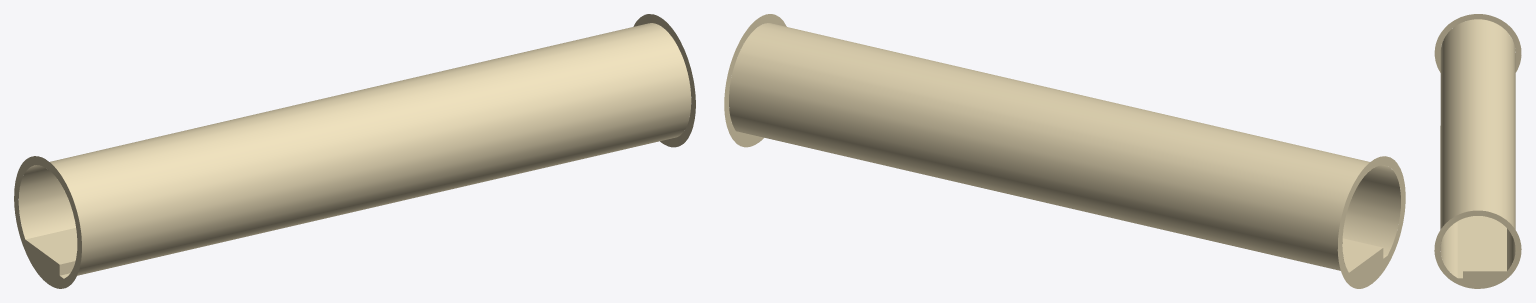
File: 1-decimated-smoothed.FBX
The picture shows the model from 3 angles, left to right: view 1: azimuth 30°, elevation 25°; view 2: azimuth 150°, elevation 25°; view 3: azimuth 270°, elevation 25°; orthographic projection. The views are drawn at different scales.
Visible parts, largest first — view 1: 1-decimated-smoothed; view 2: 1-decimated-smoothed; view 3: 1-decimated-smoothed.
Part boxes in pixels (x1,y1,x2,y2): 1-decimated-smoothed: (14,14,695,288); 1-decimated-smoothed: (724,14,1405,288); 1-decimated-smoothed: (1434,14,1521,288).
Bounding box in the file's own units: 2670 × 513 × 544.
